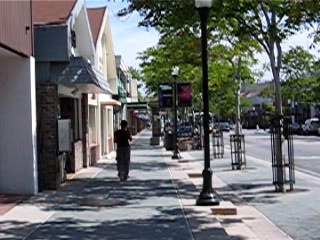person: (115, 120, 134, 183), (114, 120, 133, 183), (116, 120, 135, 183), (115, 119, 134, 182), (115, 121, 134, 184)
target_negative: (135, 71, 243, 177), (159, 79, 191, 164), (235, 96, 274, 133), (152, 207, 209, 230), (173, 63, 182, 152), (287, 82, 298, 120)
